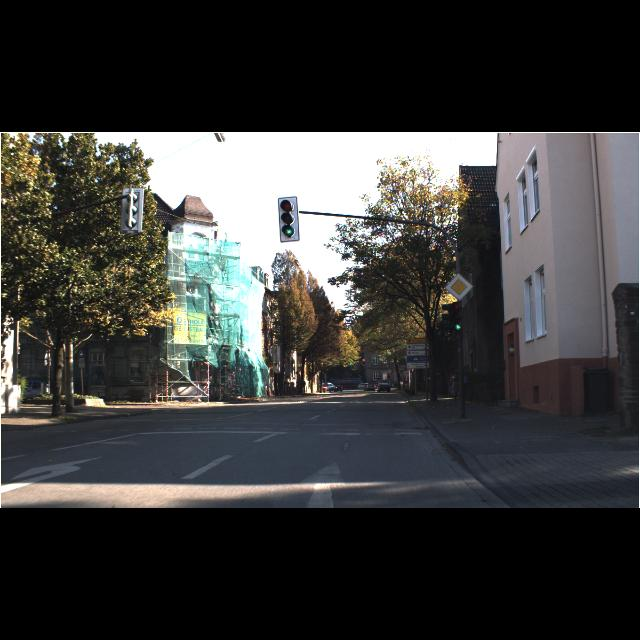other: (444, 272, 474, 302)
